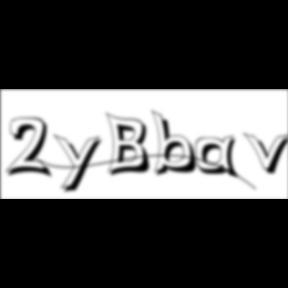2: (6, 117, 56, 181)
B: (106, 111, 156, 179)
a: (196, 135, 244, 182)
b: (152, 109, 204, 179)
y: (54, 132, 108, 196)
